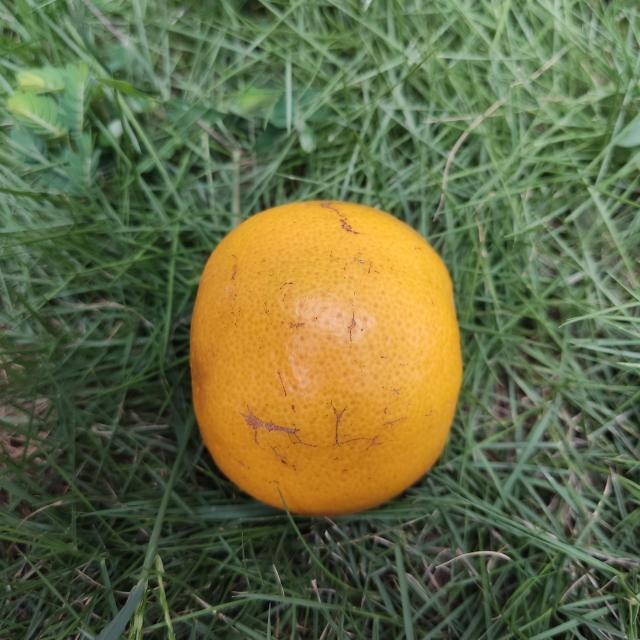agrume: (173, 198, 467, 522)
